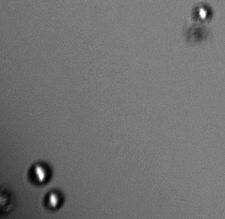Dead Cell: (1, 186, 17, 216), (186, 24, 207, 43)
Living Cell: (26, 160, 53, 187), (42, 188, 65, 211), (193, 2, 213, 22)
